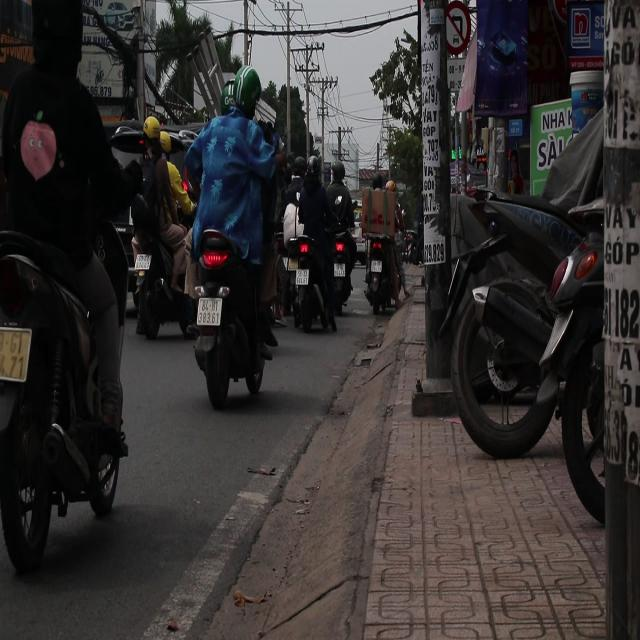motorbike: (0, 214, 131, 574), (180, 93, 282, 386), (124, 187, 190, 368), (278, 188, 338, 334), (359, 187, 406, 313)
